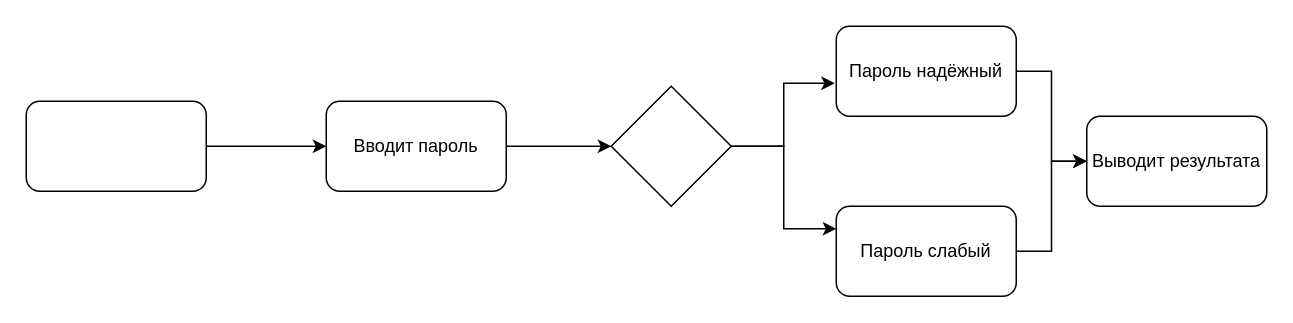
Image size: 1293x323. Some labels were removed from this diagram. Here are the shapes that lost their labels. From the top down, the box of each, then its label:
(25, 100, 206, 191): Пользователь запускает программу
(610, 85, 731, 206): Проверяет пароль
